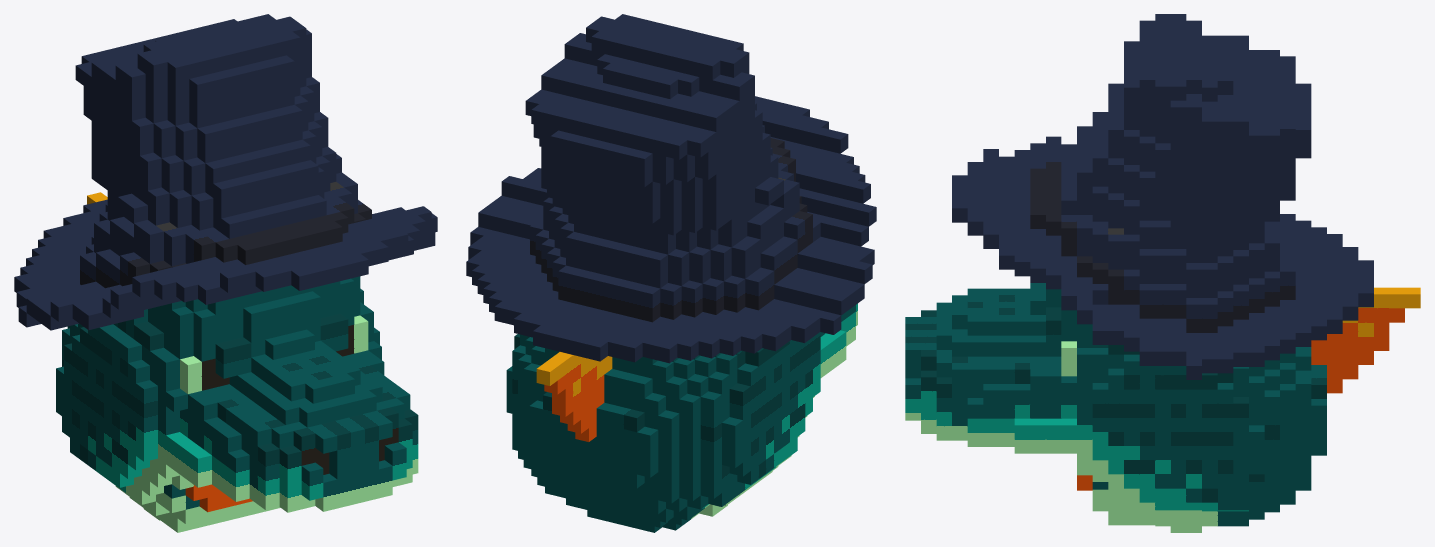
Rendered from top hat_vr goggles.gltf.
3 renders of one model, left to right at view 1: azimuth 30°, elevation 25°; view 2: azimuth 150°, elevation 25°; view 3: azimuth 270°, elevation 25°, orthographic. The views are drawn at different scales.
Visible parts, largest first — view 1: C55_H_TopH_VRGg-Mesh; view 2: C55_H_TopH_VRGg-Mesh; view 3: C55_H_TopH_VRGg-Mesh.
Boxes of the visible parts, x1,y1,x2,y2 form: C55_H_TopH_VRGg-Mesh: (14,14,437,532); C55_H_TopH_VRGg-Mesh: (466,14,876,532); C55_H_TopH_VRGg-Mesh: (905,14,1420,532).
Size of the model in its own units: 27 by 32 by 33.
1 material, 1 textured.
